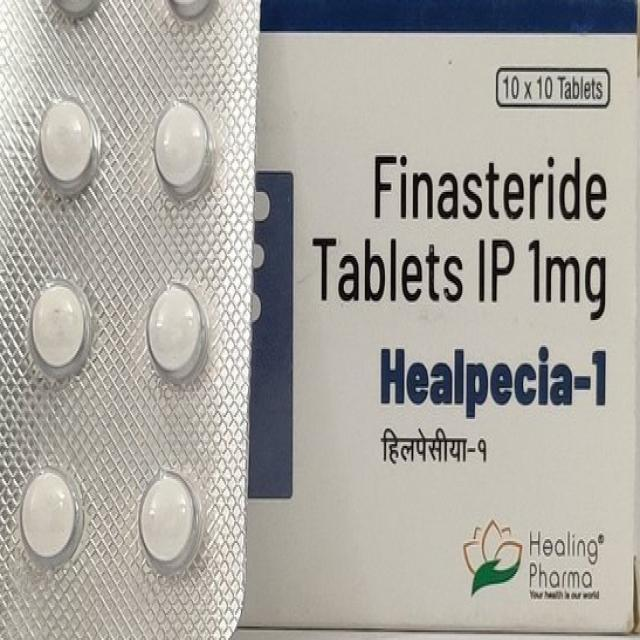drug-name: (379, 330, 622, 422)
